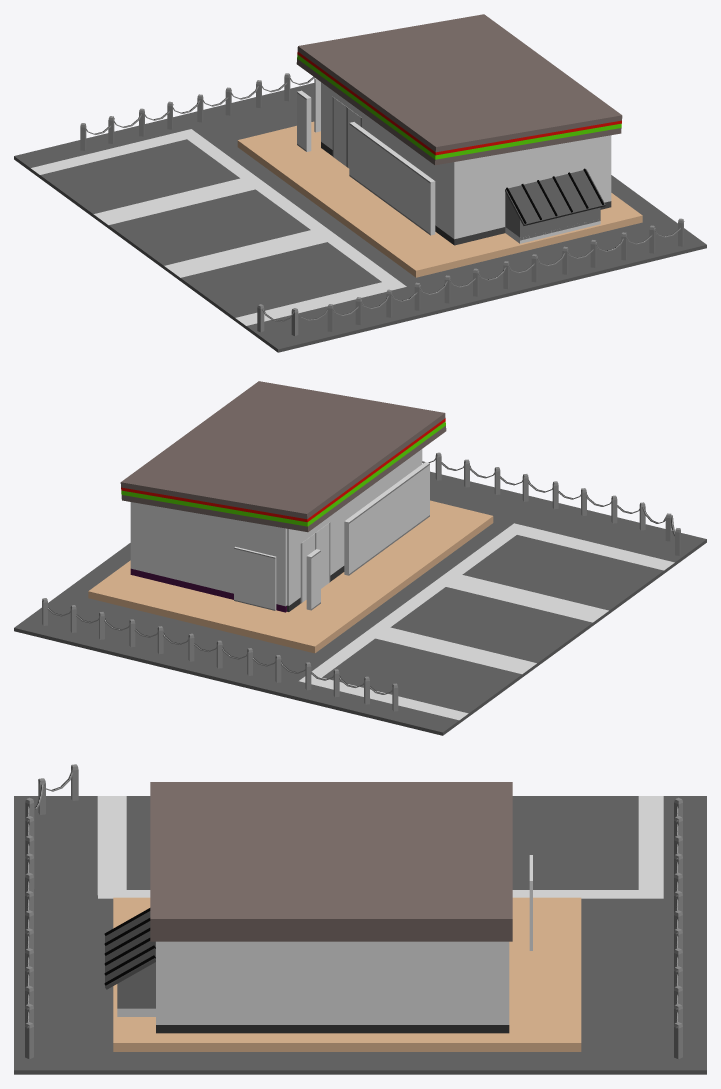
File: コンビニ.fbx
3 renders of one model, top to bottom at view 1: azimuth 30°, elevation 25°; view 2: azimuth 150°, elevation 25°; view 3: azimuth 270°, elevation 25°, orthographic. The views are drawn at different scales.
Visible parts, largest first — view 1: graund, Cube, Cube.005, Wall.001, Cube.002, Cube.023, Wall, Wall.022, Cube.014, Wall.016, Cube.001, Cube.003 (+1 smaller); view 2: graund, Cube, Cube.005, Wall.003, Cube.002, Wall, Cube.014, Cube.004, Cube.023, Cube.001, Cube.003, Wall.007; view 3: graund, Cube, Wall.002, Cube.005, Wall.006, Cube.023, Cube.014, Wall.022, Wall.016, cube.016.
Boxes of the visible parts, box(x1,y1,x2,y2) form: graund: box(14, 83, 706, 352); Cube: box(296, 14, 622, 165); Cube.005: box(237, 121, 642, 277); Wall.001: box(454, 135, 611, 239); Cube.002: box(349, 122, 435, 235); Cube.023: box(257, 218, 684, 335); Wall: box(321, 82, 454, 238); Wall.022: box(505, 169, 605, 225); Cube.014: box(80, 73, 314, 150); Wall.016: box(505, 192, 600, 240); Cube.001: box(332, 97, 361, 168); Cube.003: box(297, 90, 311, 151); graund: box(14, 471, 706, 735); Cube: box(120, 381, 446, 532); Cube.005: box(88, 500, 493, 653); Wall.003: box(130, 502, 286, 606); Cube.002: box(344, 462, 429, 575); Wall: box(287, 449, 422, 605); Cube.014: box(42, 598, 398, 711); Cube.004: box(234, 546, 276, 610); Cube.023: box(422, 452, 680, 555); Cube.001: box(300, 522, 330, 603); Cube.003: box(306, 549, 320, 610); Wall.007: box(130, 568, 286, 612); graund: box(14, 796, 706, 1074); Cube: box(150, 782, 512, 941); Wall.002: box(156, 941, 509, 1024); Cube.005: box(113, 897, 581, 1051); Wall.006: box(156, 1025, 509, 1033); Cube.023: box(25, 764, 78, 1059); Cube.014: box(674, 797, 682, 1059); Wall.022: box(105, 911, 155, 989); Wall.016: box(117, 962, 155, 1008); cube.016: box(104, 908, 155, 985).
Bounding box in the file's own units: 1533 × 398 × 1635.
